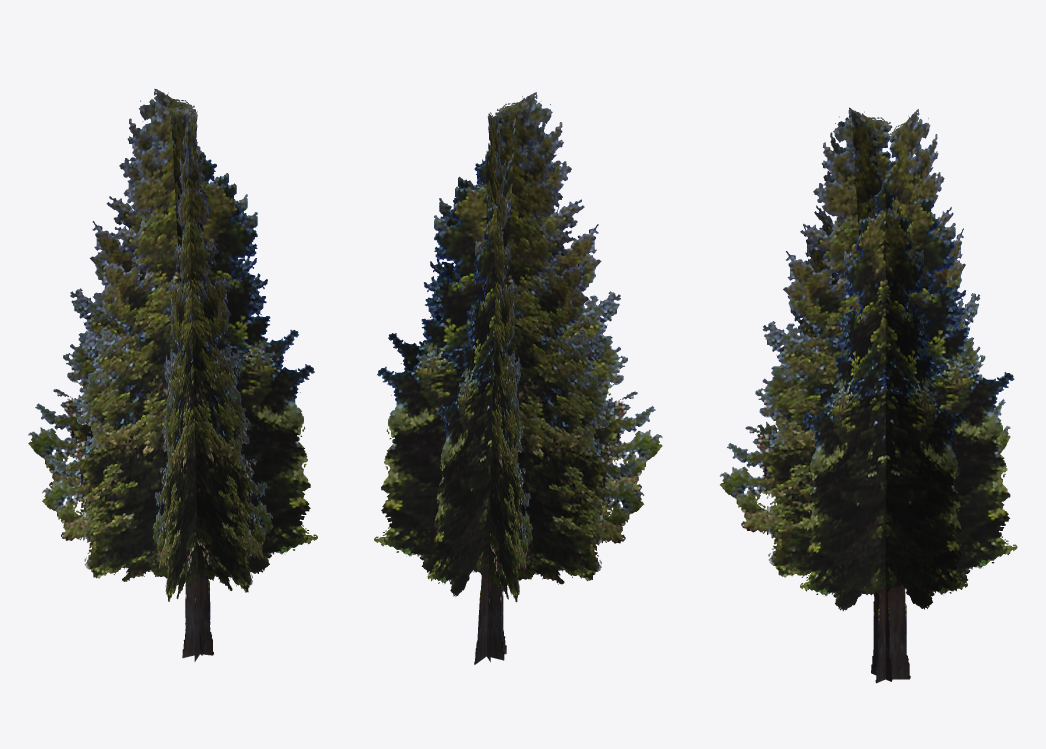
Rendered from tree2.fbx.
The picture shows the model from 3 angles, left to right: view 1: azimuth 30°, elevation 25°; view 2: azimuth 150°, elevation 25°; view 3: azimuth 270°, elevation 25°; orthographic projection.
Visible parts, largest first — view 1: Group4, Group2, Group5, Group3; view 2: Group4, Group3, Group5, Group2; view 3: Group5, Group2, Group3.
Boxes of the visible parts, left/top/right/bottom form: Group4: left=42, top=104, right=298, bottom=658; Group2: left=28, top=89, right=317, bottom=655; Group5: left=171, top=111, right=273, bottom=655; Group3: left=152, top=110, right=199, bottom=661; Group4: left=385, top=108, right=644, bottom=660; Group3: left=374, top=92, right=662, bottom=654; Group5: left=427, top=94, right=558, bottom=664; Group2: left=477, top=112, right=532, bottom=662; Group5: left=719, top=109, right=1017, bottom=679; Group2: left=800, top=109, right=1010, bottom=683; Group3: left=757, top=107, right=967, bottom=681.
Bounding box in the file's own units: 3.85 × 7.59 × 3.85.
